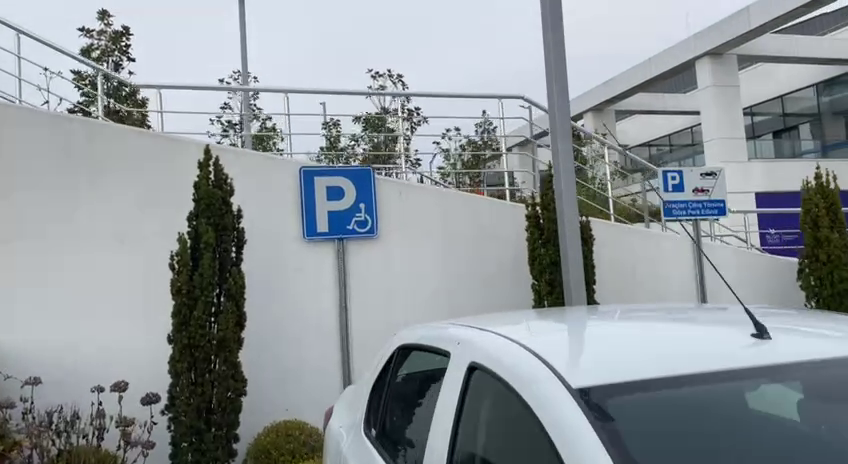parking: (298, 164, 379, 241), (661, 167, 686, 195)
